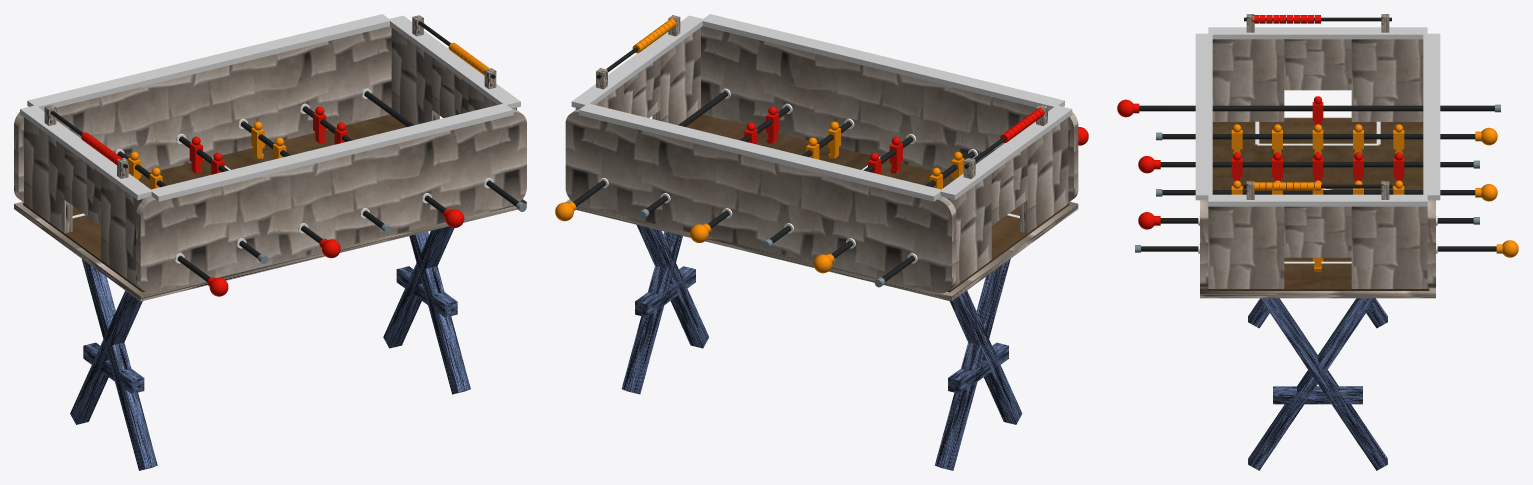
File: Sports_Table_football__0026.glb
The picture shows the model from 3 angles, left to right: view 1: azimuth 30°, elevation 25°; view 2: azimuth 150°, elevation 25°; view 3: azimuth 270°, elevation 25°; orthographic projection. The views are drawn at different scales.
Parts seen in each view (by area): view 1: cabinet::side_panel_0, cabinet::side_panel_1, cabinet::side_rim_0, cabinet::side_rim_1, cabinet::pitch, cabinet::end_wall_0_post_b, cabinet::trestle_0_bar_b, cabinet::cabinet_base, cabinet::end_wall_1_post_b, cabinet::end_wall_0_post_a, cabinet::trestle_1_bar_b, cabinet::trestle_0_bar_a (+8 smaller); view 2: cabinet::side_panel_1, cabinet::side_panel_0, cabinet::side_rim_1, cabinet::side_rim_0, cabinet::pitch, cabinet::end_wall_0_post_a, cabinet::cabinet_base, cabinet::trestle_0_bar_a, cabinet::end_wall_1_post_a, cabinet::end_wall_0_post_b, cabinet::trestle_1_bar_a, cabinet::trestle_0_bar_b (+8 smaller); view 3: cabinet::pitch, cabinet::end_wall_1_post_a, cabinet::end_wall_1_post_b, cabinet::end_wall_0_post_a, cabinet::end_wall_0_post_b, cabinet::end_wall_0_lintel, cabinet::end_wall_1_lintel, cabinet::trestle_1_bar_a, cabinet::trestle_1_bar_b, cabinet::side_rim_1, cabinet::side_rim_0, cabinet::end_rim_1 (+11 smaller).
Part boxes in pixels (x1=…): cabinet::side_panel_0: x1=136, y1=109, x2=526, y2=293; cabinet::side_panel_1: x1=14, y1=26, x2=391, y2=202; cabinet::side_rim_0: x1=150, y1=103, x2=513, y2=201; cabinet::side_rim_1: x1=27, y1=14, x2=389, y2=110; cabinet::pitch: x1=23, y1=114, x2=406, y2=292; cabinet::end_wall_0_post_b: x1=24, y1=117, x2=72, y2=233; cabinet::trestle_0_bar_b: x1=82, y1=259, x2=157, y2=470; cabinet::cabinet_base: x1=14, y1=199, x2=526, y2=301; cabinet::end_wall_1_post_b: x1=391, y1=28, x2=439, y2=125; cabinet::end_wall_0_post_a: x1=101, y1=174, x2=147, y2=289; cabinet::trestle_1_bar_b: x1=409, y1=231, x2=470, y2=394; cabinet::trestle_0_bar_a: x1=70, y1=290, x2=142, y2=424; cabinet::side_panel_1: x1=565, y1=109, x2=956, y2=293; cabinet::side_panel_0: x1=701, y1=26, x2=1078, y2=202; cabinet::side_rim_1: x1=579, y1=103, x2=942, y2=201; cabinet::side_rim_0: x1=702, y1=14, x2=1064, y2=110; cabinet::pitch: x1=686, y1=114, x2=1069, y2=292; cabinet::end_wall_0_post_a: x1=1020, y1=117, x2=1068, y2=233; cabinet::cabinet_base: x1=565, y1=199, x2=1078, y2=301; cabinet::trestle_0_bar_a: x1=935, y1=258, x2=1010, y2=470; cabinet::end_wall_1_post_a: x1=652, y1=27, x2=700, y2=125; cabinet::end_wall_0_post_b: x1=946, y1=173, x2=991, y2=289; cabinet::trestle_1_bar_a: x1=621, y1=231, x2=682, y2=394; cabinet::trestle_0_bar_b: x1=949, y1=290, x2=1022, y2=424; cabinet::pitch: x1=1206, y1=118, x2=1429, y2=290; cabinet::end_wall_1_post_a: x1=1208, y1=206, x2=1284, y2=288; cabinet::end_wall_1_post_b: x1=1351, y1=206, x2=1427, y2=288; cabinet::end_wall_0_post_a: x1=1212, y1=39, x2=1284, y2=121; cabinet::end_wall_0_post_b: x1=1351, y1=39, x2=1423, y2=121; cabinet::end_wall_0_lintel: x1=1284, y1=39, x2=1351, y2=90; cabinet::end_wall_1_lintel: x1=1284, y1=206, x2=1351, y2=257; cabinet::trestle_1_bar_a: x1=1260, y1=298, x2=1387, y2=470; cabinet::trestle_1_bar_b: x1=1248, y1=298, x2=1375, y2=470; cabinet::side_rim_1: x1=1423, y1=33, x2=1440, y2=200; cabinet::side_rim_0: x1=1195, y1=33, x2=1212, y2=200; cabinet::end_rim_1: x1=1208, y1=194, x2=1427, y2=206.
Bounding box in the file's own units: 1.23 × 0.9749 × 1.19.
Materials: 18 (5 with a texture image).
